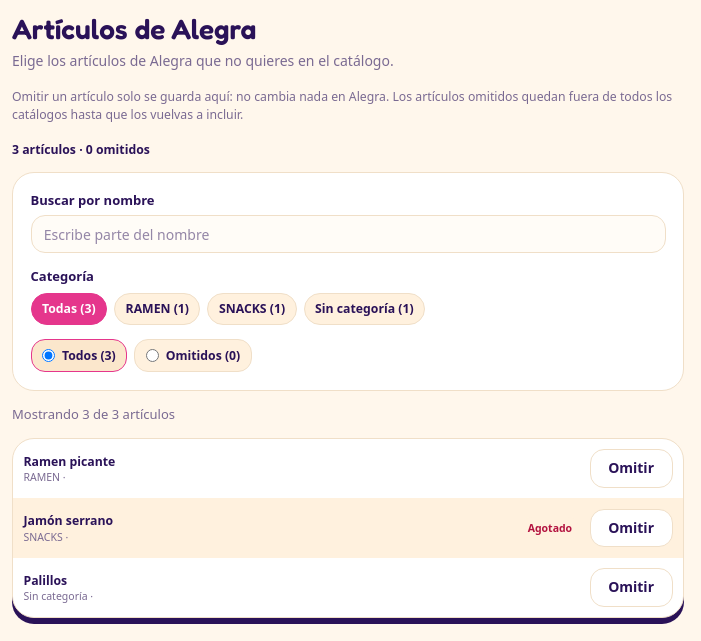
Artículos de Alegra: resumen y vistas «Todos» / «Omitidos» (US2) › el resumen se actualiza al omitir y al volver a incluir
The image size is (701, 641).
Expected: the text "Ramen picante" is shown, [24, 453, 115, 470]
Expected: the text "3 artículos · 0 omitidos" is shown, [12, 141, 150, 158]
Step 1. Click the button with aria-label "Omitir Ramen picante" → [631, 468], box [590, 449, 672, 488]
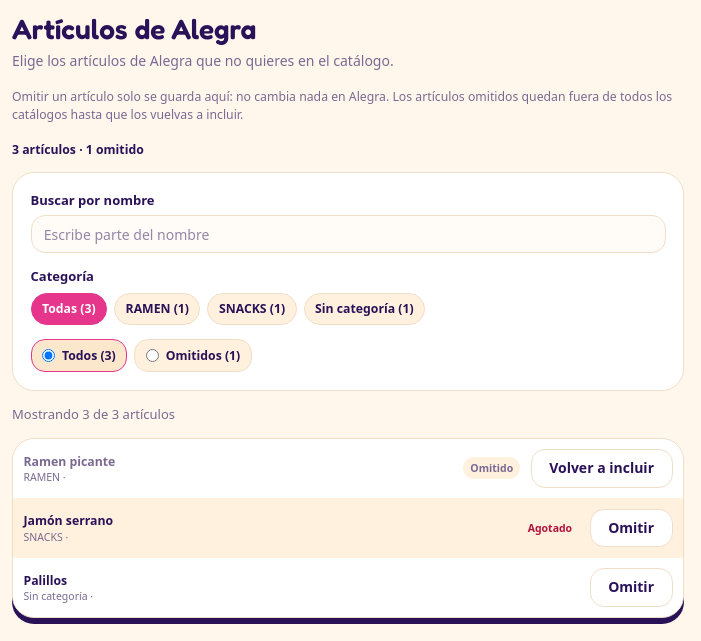
Expected: the text "3 artículos · 1 omitido" is shown, [12, 141, 144, 158]
Step 2. Click the button with aria-label "Volver a incluir Ramen picante" → [602, 468], box [531, 449, 672, 488]
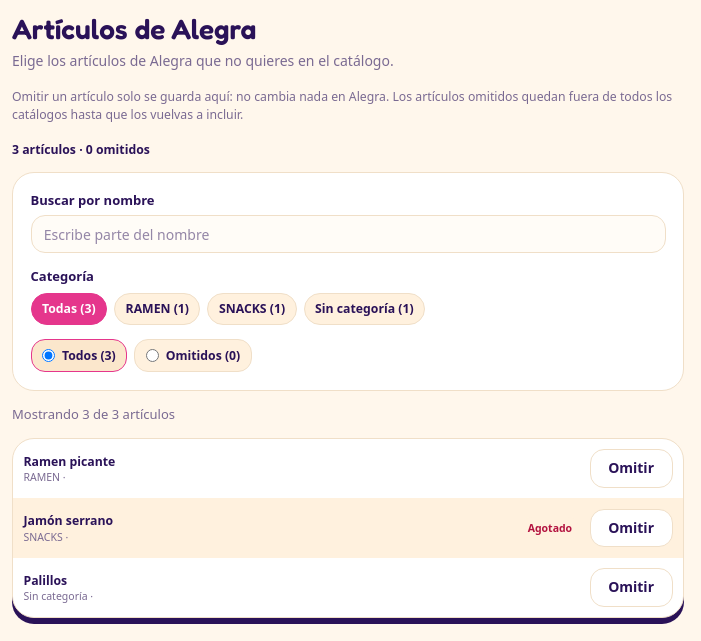
Expected: the text "3 artículos · 0 omitidos" is shown, [12, 141, 150, 158]
